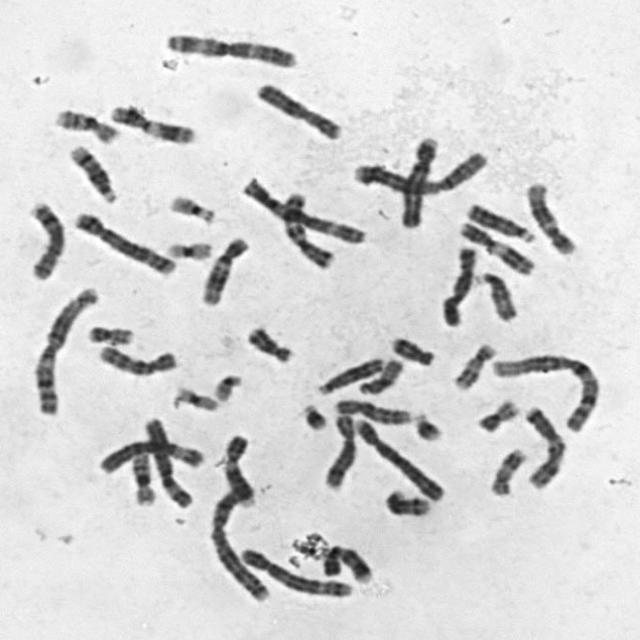A1: (484, 347, 605, 433), (27, 279, 102, 417)
A2: (203, 478, 273, 602), (346, 144, 491, 196)
A3: (235, 171, 369, 246), (157, 24, 300, 70)
B4: (348, 410, 450, 502), (394, 130, 443, 230)
B5: (68, 205, 178, 277), (233, 542, 356, 599)
C10: (91, 338, 180, 378), (329, 392, 414, 425)
C11: (453, 215, 539, 277), (102, 98, 200, 146)
C12: (520, 175, 581, 256), (194, 230, 252, 307)
C6: (137, 410, 196, 510), (90, 431, 210, 476)
C7: (275, 186, 337, 270), (517, 399, 568, 491)
C8: (21, 194, 68, 282), (316, 407, 360, 491)
C9: (217, 427, 258, 510), (314, 539, 375, 584)
D13: (459, 197, 539, 244), (310, 350, 388, 396)
D14: (61, 138, 120, 205), (379, 482, 434, 518)
D15: (468, 265, 520, 323), (352, 352, 407, 396)
E16: (48, 101, 121, 145), (125, 447, 157, 507)
E17: (446, 336, 499, 392), (484, 441, 529, 497)
E18: (239, 319, 296, 364), (384, 330, 438, 367)
F19: (166, 379, 222, 413), (159, 234, 216, 261)
F20: (472, 392, 523, 434), (81, 318, 136, 346)
G21: (407, 405, 448, 444), (295, 397, 332, 432)
G22: (161, 187, 219, 225), (207, 367, 246, 403)
X: (248, 75, 346, 142), (434, 239, 480, 329)
